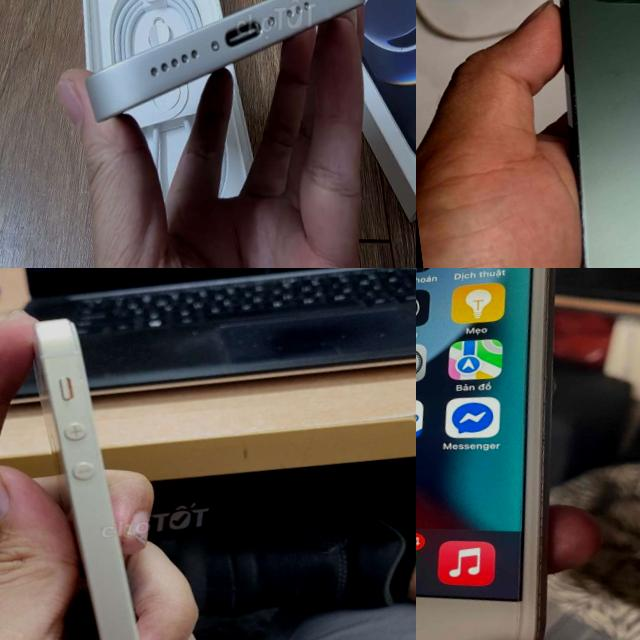gen_12_13: (527, 0, 640, 268)
gen_16: (86, 0, 363, 120)
gen_6: (416, 268, 626, 640), (33, 319, 140, 640)
